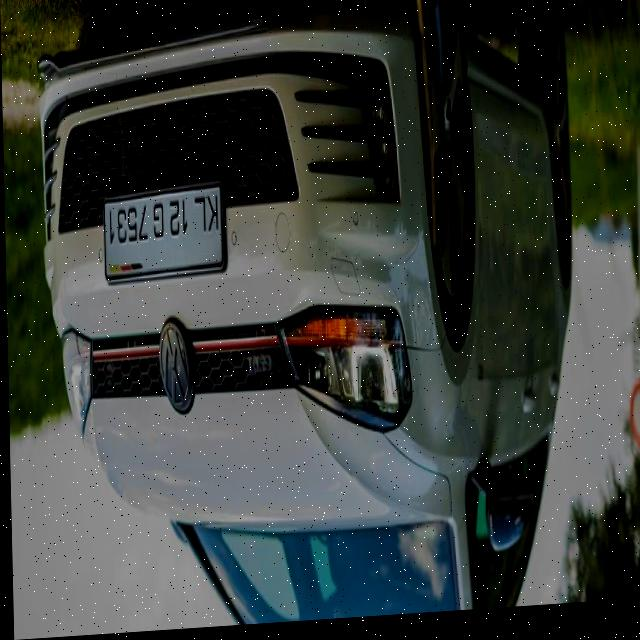plate: (102, 184, 225, 286)
